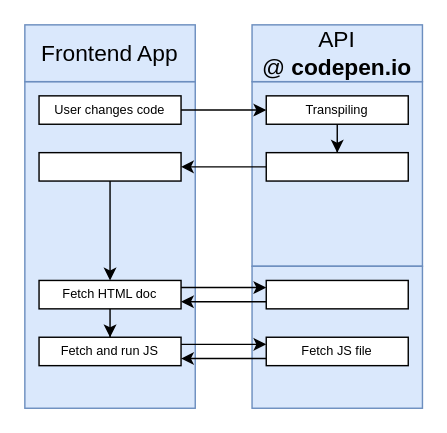
The diagram is 447 pixels wide and 433 high, and some of its shapes have lost their labels. The shapes that lost their labels are listed below. From the top down, each one's centre as x and y in pixels, then its label:
point 109,166: Reload iframe
point 336,166: Transpile Complete!
point 336,294: Need HTML doc
